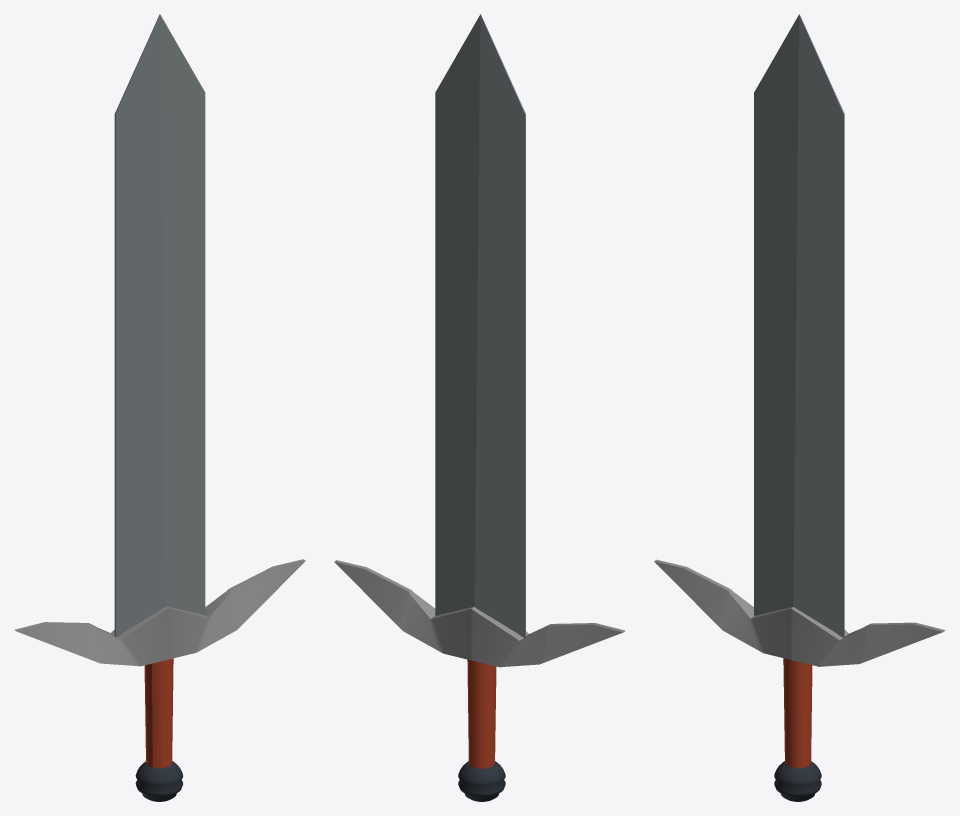
File: Sword1.fbx
The picture shows the model from 3 angles, left to right: view 1: azimuth 30°, elevation 25°; view 2: azimuth 150°, elevation 25°; view 3: azimuth 330°, elevation 25°; orthographic projection.
Visible parts, largest first — view 1: Circle.001; view 2: Circle.001; view 3: Circle.001.
Part boxes in pixels (bbox=[...]): Circle.001: bbox=[14, 14, 305, 801]; Circle.001: bbox=[334, 14, 625, 801]; Circle.001: bbox=[654, 14, 945, 801].
Size of the model in its own units: 91.85 by 238 by 13.09.
